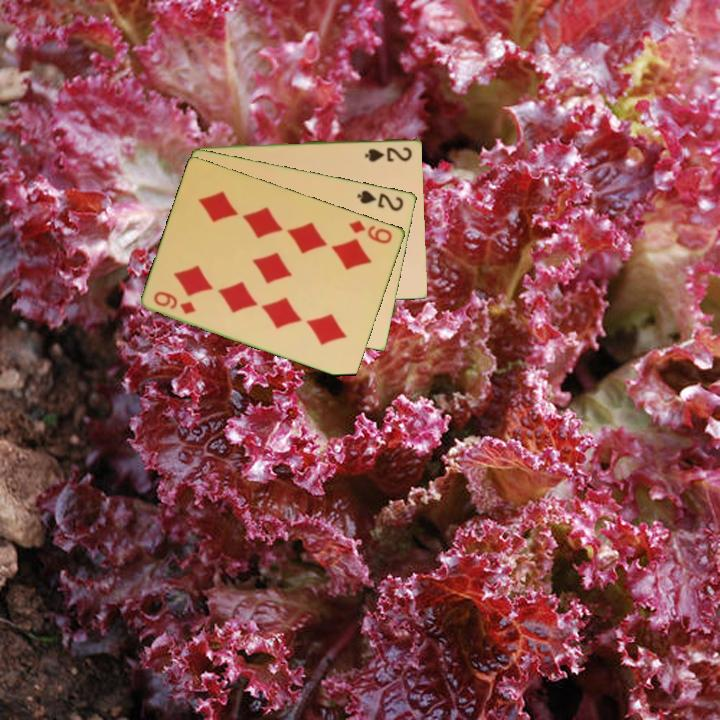2s: (354, 186, 407, 214), (362, 143, 415, 164)
9d: (346, 217, 395, 247), (150, 287, 199, 317)
